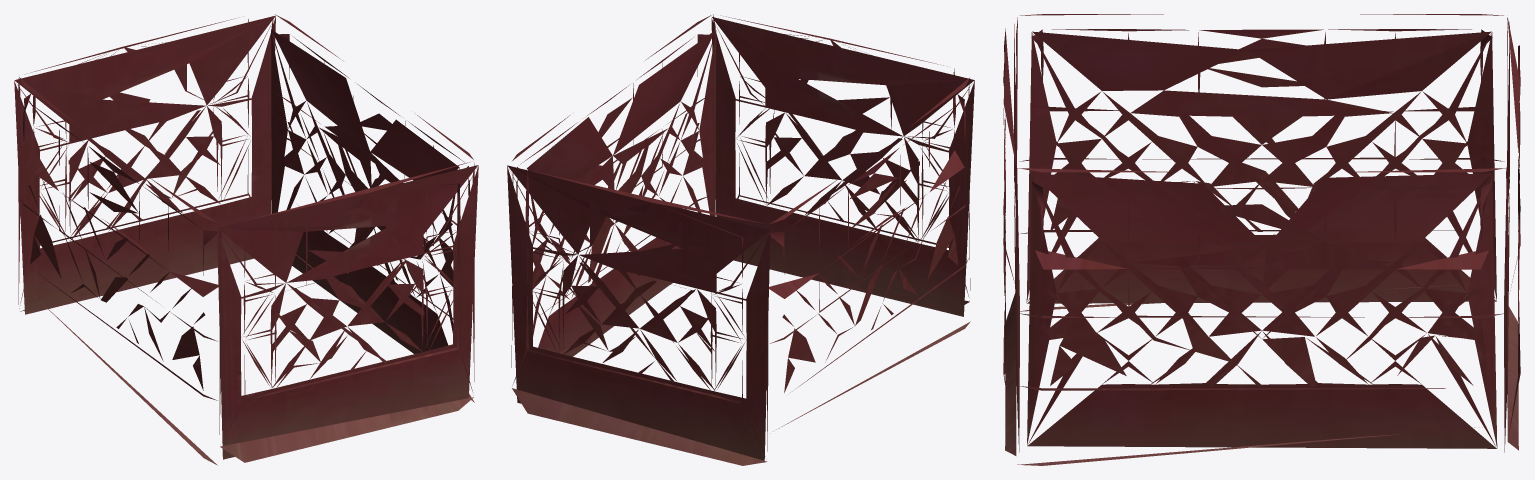
Rendered from ph_plastic_crate_01.glb.
3 views of the same model, side by side, from view 1: azimuth 30°, elevation 25°; view 2: azimuth 150°, elevation 25°; view 3: azimuth 270°, elevation 25° (orthographic). The views are drawn at different scales.
Visible parts, largest first — view 1: plastic_crate_01; view 2: plastic_crate_01; view 3: plastic_crate_01.
Boxes of the visible parts, x1,y1,x2,y2 form: plastic_crate_01: (14, 14, 478, 465); plastic_crate_01: (507, 14, 974, 465); plastic_crate_01: (1003, 14, 1520, 465).
Size of the model in its own units: 0.299 by 0.261 by 0.4122.
1 material, 1 textured.
